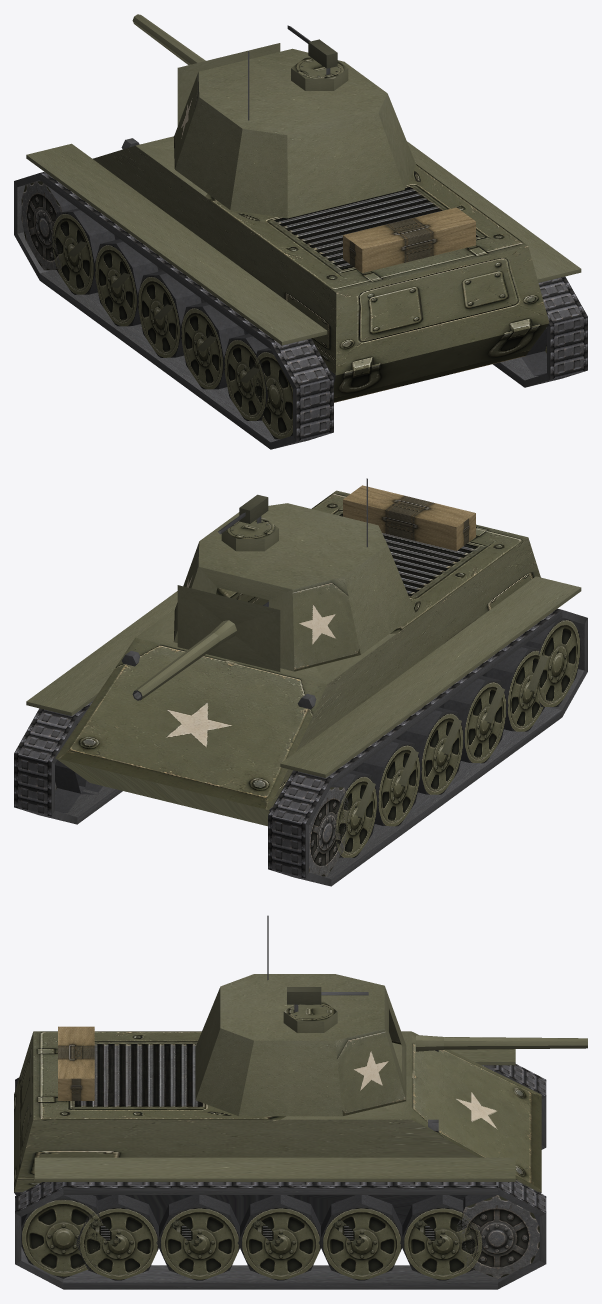
Rendered from vehicle.glb.
3 renders of one model, top to bottom at view 1: azimuth 30°, elevation 25°; view 2: azimuth 150°, elevation 25°; view 3: azimuth 270°, elevation 25°, orthographic. The views are drawn at different scales.
Parts seen in each view (by area): view 1: Cosmetic_wheels, Cosmetic_hull_Olive, Cosmetic_track_left, Armor_turret_roof, Armor_turret_wall_4, Armor_hull_1_4, Armor_hull_1_5, Armor_hull_1_6, Armor_hull_roof_5, Cosmetic_track_right, Armor_turret_wall_6, Armor_turret_wall_5 (+14 smaller); view 2: Cosmetic_hull_Olive, Cosmetic_wheels, Armor_hull_1_0, Armor_hull_1_1, Cosmetic_track_left, Armor_turret_roof, Armor_hull_1_6, Cosmetic_track_right, Armor_turret_wall_7, Armor_turret_wall_6, Armor_hull_1_7, Armor_hull_roof_5 (+14 smaller); view 3: Cosmetic_wheels, Cosmetic_track_right, Cosmetic_hull_Olive, Armor_hull_1_3, Armor_turret_roof, Armor_turret_wall_2, Armor_hull_1_2, Armor_hull_1_0, Armor_hull_1_1, Armor_hull_roof_4, Armor_hull_roof_5, Armor_turret_wall_1 (+13 smaller).
Boxes of the visible parts, <box> form: Cosmetic_wheels: <box>21,180,546,439</box>; Cosmetic_hull_Olive: <box>26,138,581,345</box>; Cosmetic_track_left: <box>14,172,333,449</box>; Armor_turret_roof: <box>198,48,387,135</box>; Armor_turret_wall_4: <box>287,113,404,218</box>; Armor_hull_1_4: <box>432,246,549,349</box>; Armor_hull_1_5: <box>335,269,442,375</box>; Armor_hull_1_6: <box>199,197,336,374</box>; Armor_hull_roof_5: <box>269,205,431,292</box>; Cosmetic_track_right: <box>493,276,587,387</box>; Armor_turret_wall_6: <box>175,97,242,209</box>; Armor_turret_wall_5: <box>230,129,287,218</box>; Cosmetic_hull_Olive: <box>26,485,581,778</box>; Cosmetic_wheels: <box>55,617,580,876</box>; Armor_hull_1_0: <box>162,661,326,809</box>; Armor_hull_1_1: <box>55,638,230,783</box>; Cosmetic_track_left: <box>268,608,587,886</box>; Armor_turret_roof: <box>198,503,387,589</box>; Armor_hull_1_6: <box>397,537,540,673</box>; Cosmetic_track_right: <box>14,700,122,824</box>; Armor_turret_wall_7: <box>292,577,360,671</box>; Armor_turret_wall_6: <box>344,545,416,654</box>; Armor_hull_1_7: <box>269,634,402,809</box>; Armor_hull_roof_5: <box>388,524,527,597</box>; Cosmetic_wheels: <box>21,1195,539,1280</box>; Cosmetic_track_right: <box>15,1180,546,1289</box>; Cosmetic_hull_Olive: <box>34,1026,515,1181</box>; Armor_hull_1_3: <box>14,1119,280,1192</box>; Armor_turret_roof: <box>220,974,384,1040</box>; Armor_turret_wall_2: <box>238,1040,342,1116</box>; Armor_hull_1_2: <box>280,1119,540,1192</box>; Armor_hull_1_0: <box>411,1032,541,1143</box>; Armor_hull_1_1: <box>411,1076,541,1192</box>; Armor_hull_roof_4: <box>33,1075,211,1119</box>; Armor_hull_roof_5: <box>33,1031,196,1075</box>; Armor_turret_wall_1: <box>335,1029,405,1115</box>.
Size of the model in its own units: 3.03 by 2.87 by 5.34.
1 material, 1 textured.
